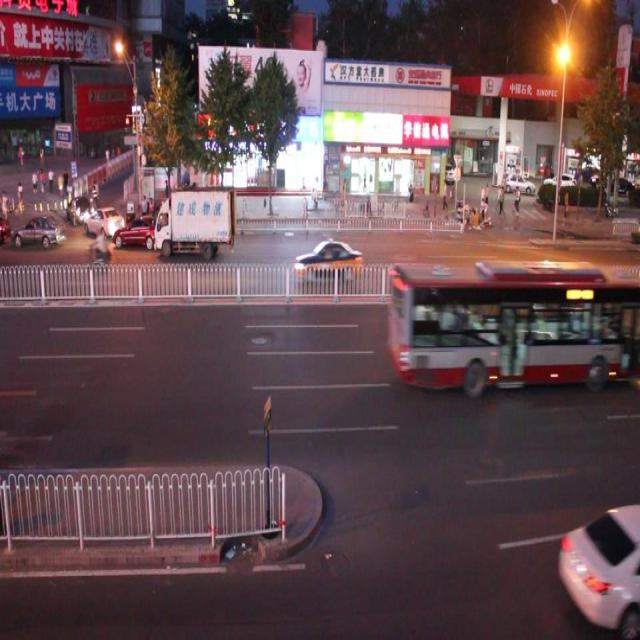bus: (154, 188, 235, 258)
car: (554, 502, 640, 634), (292, 239, 361, 284), (166, 185, 223, 232), (11, 214, 65, 254), (112, 213, 164, 249), (86, 204, 125, 239), (68, 192, 93, 226)
van: (388, 262, 640, 389)
